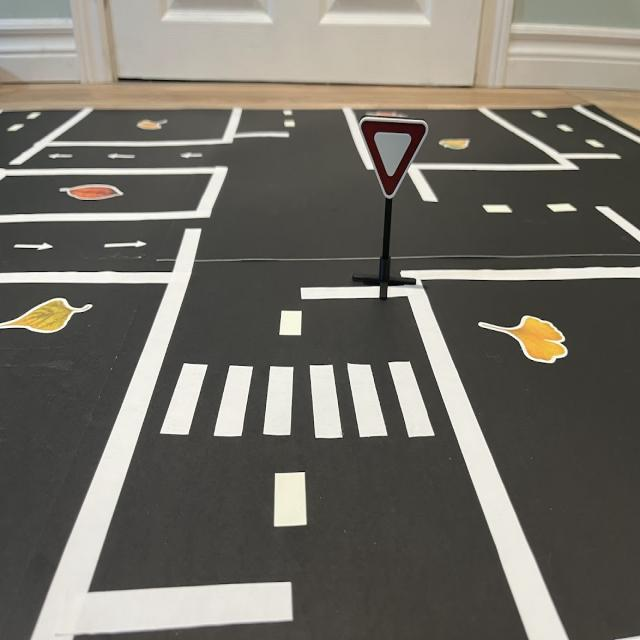road_crosswalk: (152, 354, 445, 444)
road_oneway: (101, 234, 154, 258), (8, 239, 58, 259), (48, 149, 78, 166), (103, 150, 140, 161), (179, 151, 207, 162)
sign_yield: (361, 118, 429, 198)
